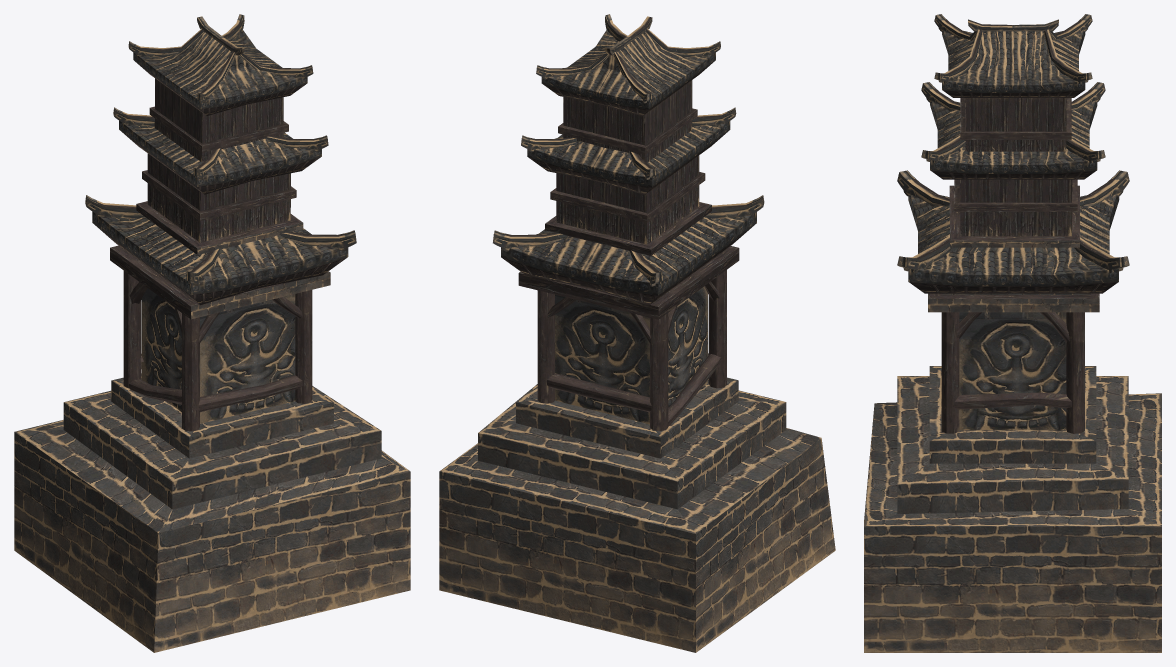
Rendered from sm_jianzhu_2.FBX.
3 views of the same model, side by side, from view 1: azimuth 30°, elevation 25°; view 2: azimuth 150°, elevation 25°; view 3: azimuth 270°, elevation 25° (orthographic). The views are drawn at different scales.
Visible parts, largest first — view 1: sm_jianzhu_2; view 2: sm_jianzhu_2; view 3: sm_jianzhu_2.
Part boxes in pixels (bbox=[...]): sm_jianzhu_2: bbox=[14, 14, 410, 652]; sm_jianzhu_2: bbox=[439, 14, 835, 652]; sm_jianzhu_2: bbox=[864, 14, 1161, 652].
Size of the model in its own units: 964 by 1924 by 911.
